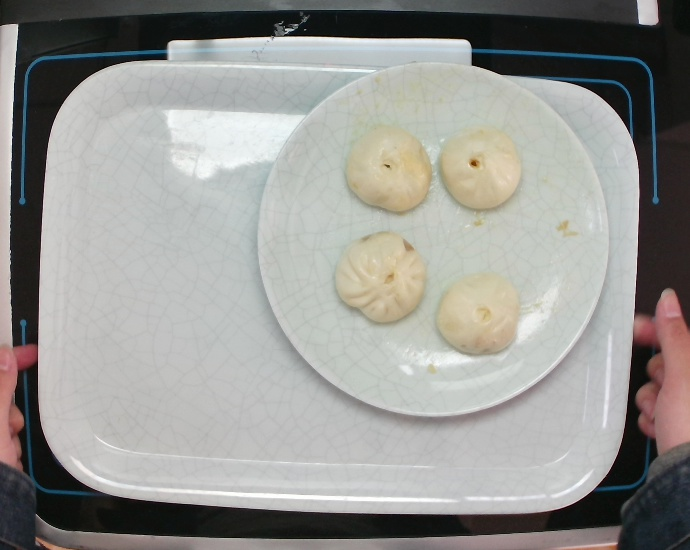JYsf-Da_Yuan_Pan: (254, 58, 611, 418)
